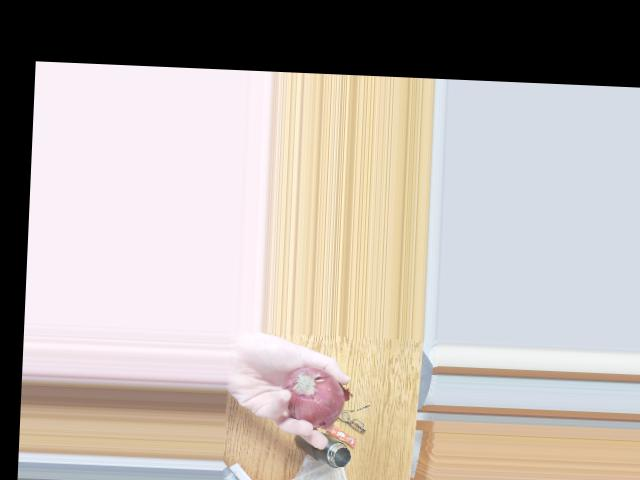onion: (281, 366, 340, 423)
